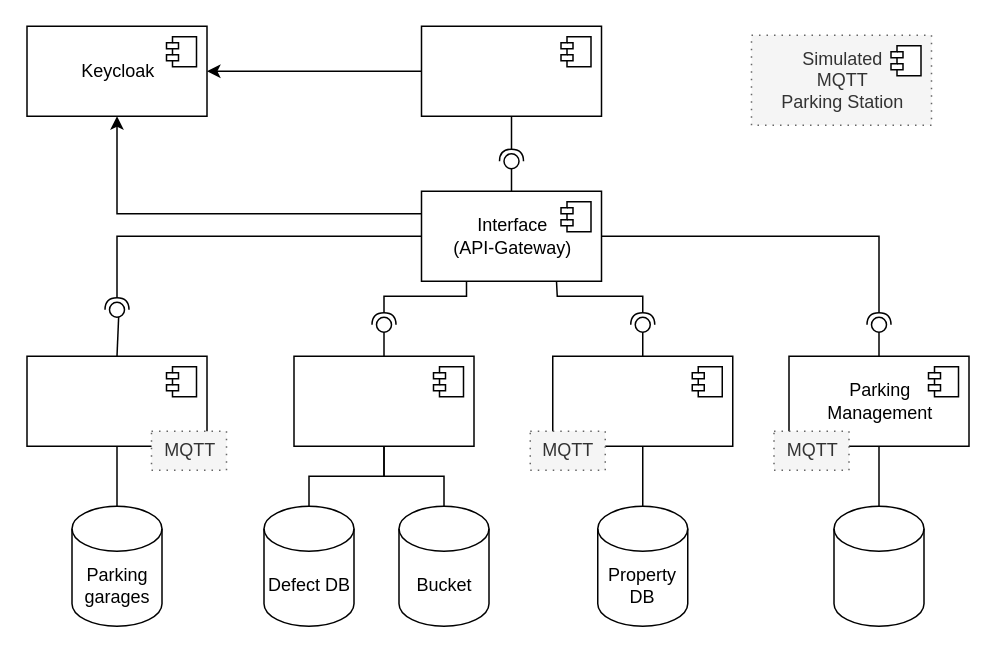
Image size: 995x653. Some labels were removed from this diagram. The shapes that lost their labels are listed below. From the top down, each one's centre as x and y in pixels, then its label:
the point at 511,70: Frontend
the point at 116,400: Parking garage management
the point at 383,400: Defect Mangement
the point at 642,400: Facility Management
the point at 878,565: Parking DB
